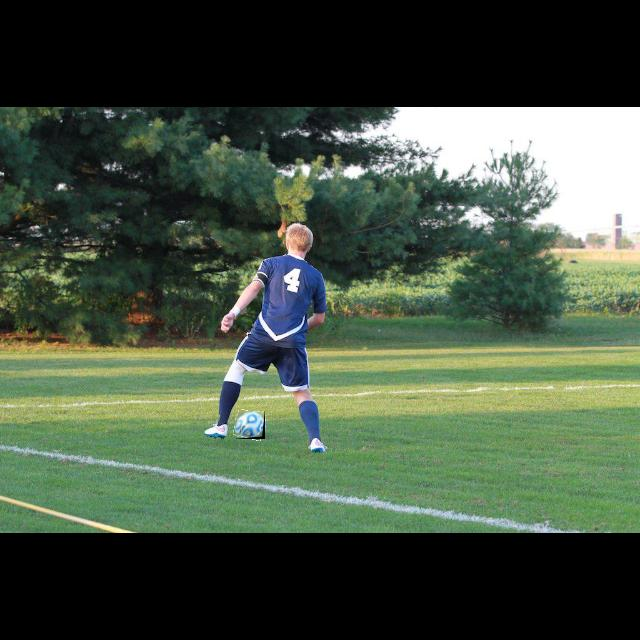Football: (235, 411, 265, 439)
